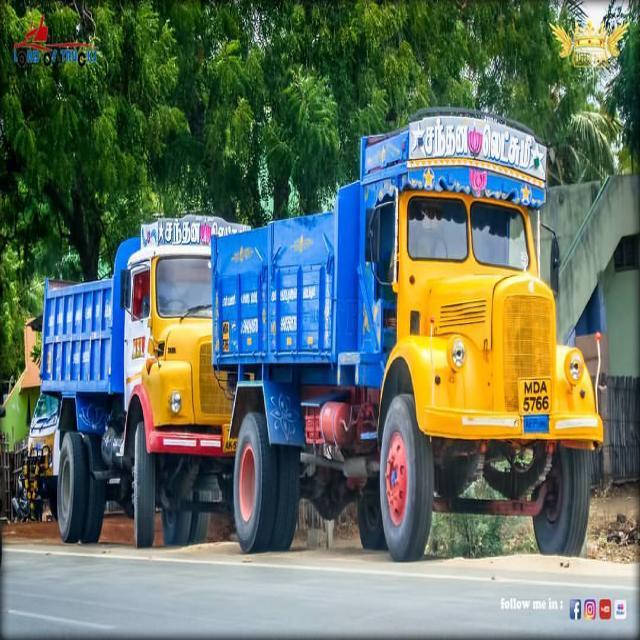Truck: (210, 107, 608, 561), (38, 208, 216, 548)
